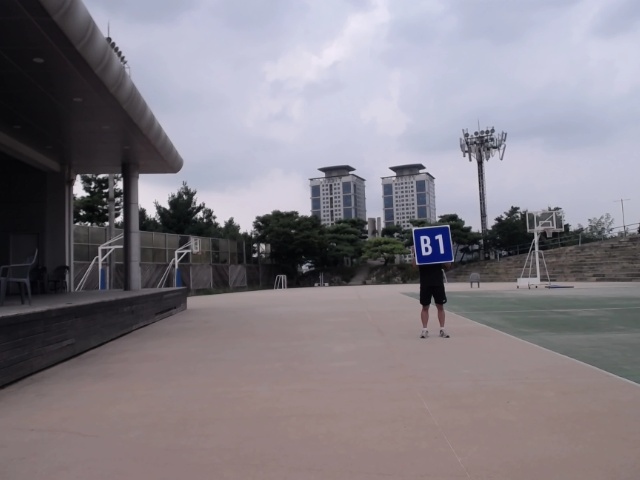delivery_b1: (412, 225, 454, 265)
